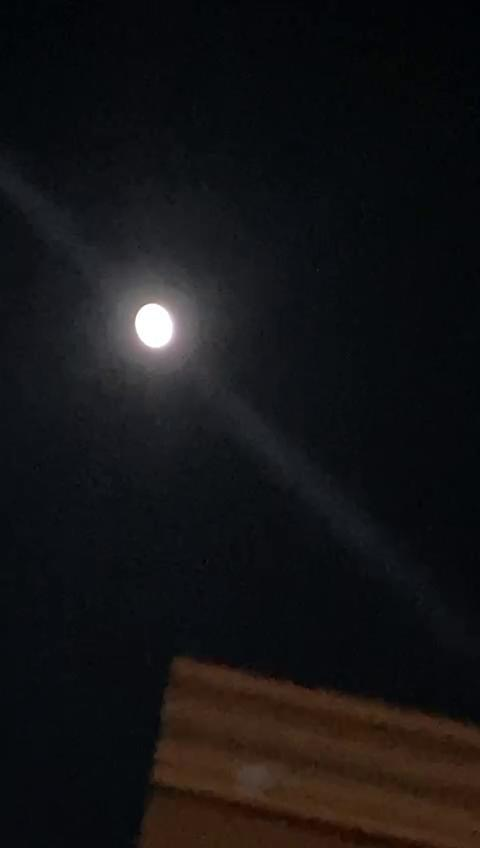moon: (123, 292, 191, 362)
